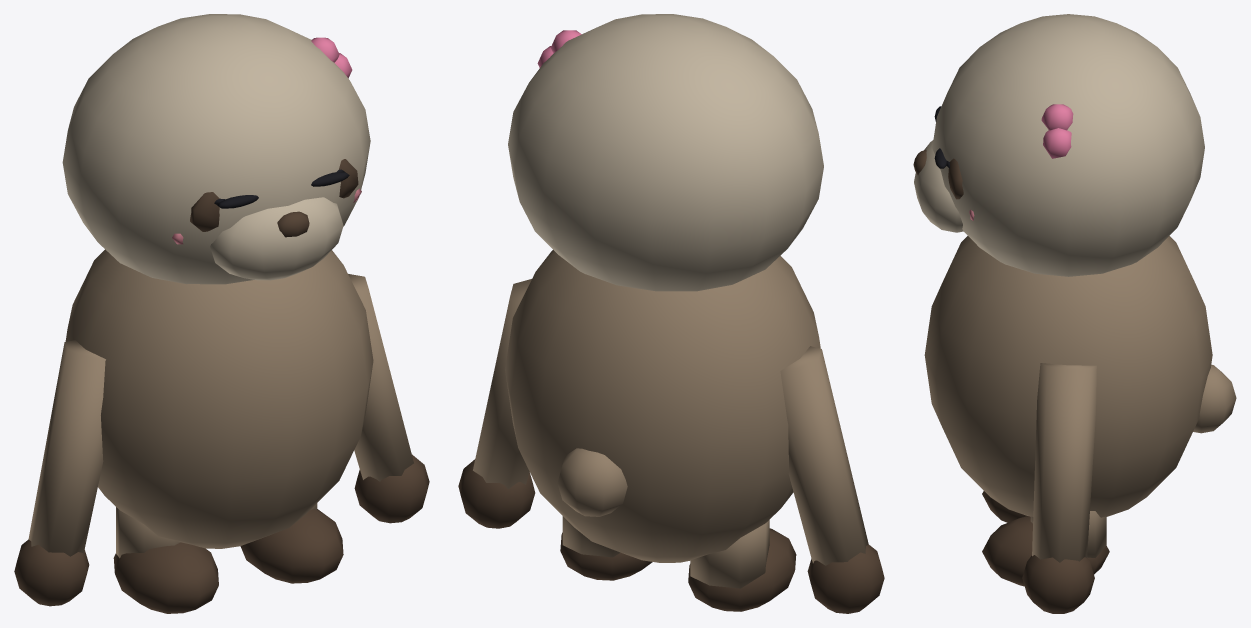
File: sloth-DlyyLY5p.glb
The picture shows the model from 3 angles, left to right: view 1: azimuth 30°, elevation 25°; view 2: azimuth 150°, elevation 25°; view 3: azimuth 270°, elevation 25°; orthographic projection. The views are drawn at different scales.
Visible parts, largest first — view 1: body, head, arm_R, arm_L, leg_R, leg_L, flower; view 2: head, body, arm_R, arm_L, leg_R, tail, leg_L; view 3: head, body, arm_L, leg_L, tail, flower, leg_R.
Boxes of the visible parts, x1,y1,x2,y2 form: body: (65,249,373,548); head: (62,14,370,284); arm_R: (14,340,105,606); arm_L: (348,274,429,523); leg_R: (113,507,218,613); leg_L: (240,503,343,583); flower: (311,37,352,78); head: (508,14,823,291); body: (505,250,820,562); arm_R: (780,346,884,613); arm_L: (458,279,535,528); leg_R: (688,520,796,611); tail: (557,448,627,516); leg_L: (560,516,652,580); head: (913,14,1204,276); body: (924,236,1212,517); arm_L: (1022,363,1096,613); leg_L: (982,511,1109,586); tail: (1193,364,1236,433); flower: (1041,104,1073,158); leg_R: (982,491,1027,522).
Size of the model in its own units: 0.875 by 1.15 by 0.6395.
